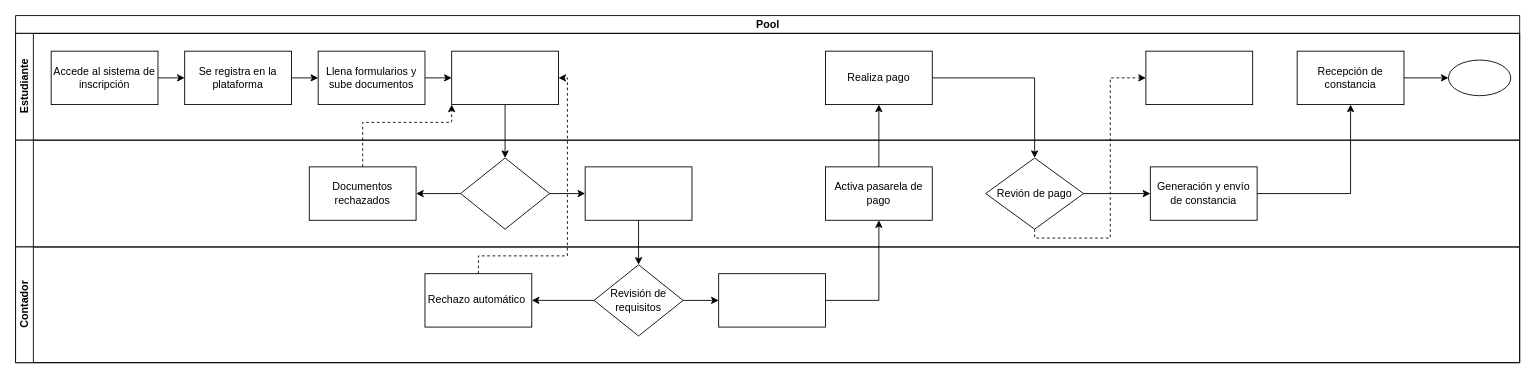
Image size: 1535x378. Some labels were removed from this diagram. The shapes that lost their labels are listed below. From the top down, each one's box as (x1, y1, x2, y2) in pixels, then its label:
(451, 50, 558, 105): Enviar notificación al estudiante
(1145, 50, 1253, 105): Notificación automática de rechazo de pago
(1448, 59, 1511, 96): Fin
(460, 157, 550, 229): Validación de documentos
(584, 166, 692, 220): Documentos aprobados
(15, 139, 1520, 247): Sistema
(718, 273, 825, 327): Aprobado para pago en línea
